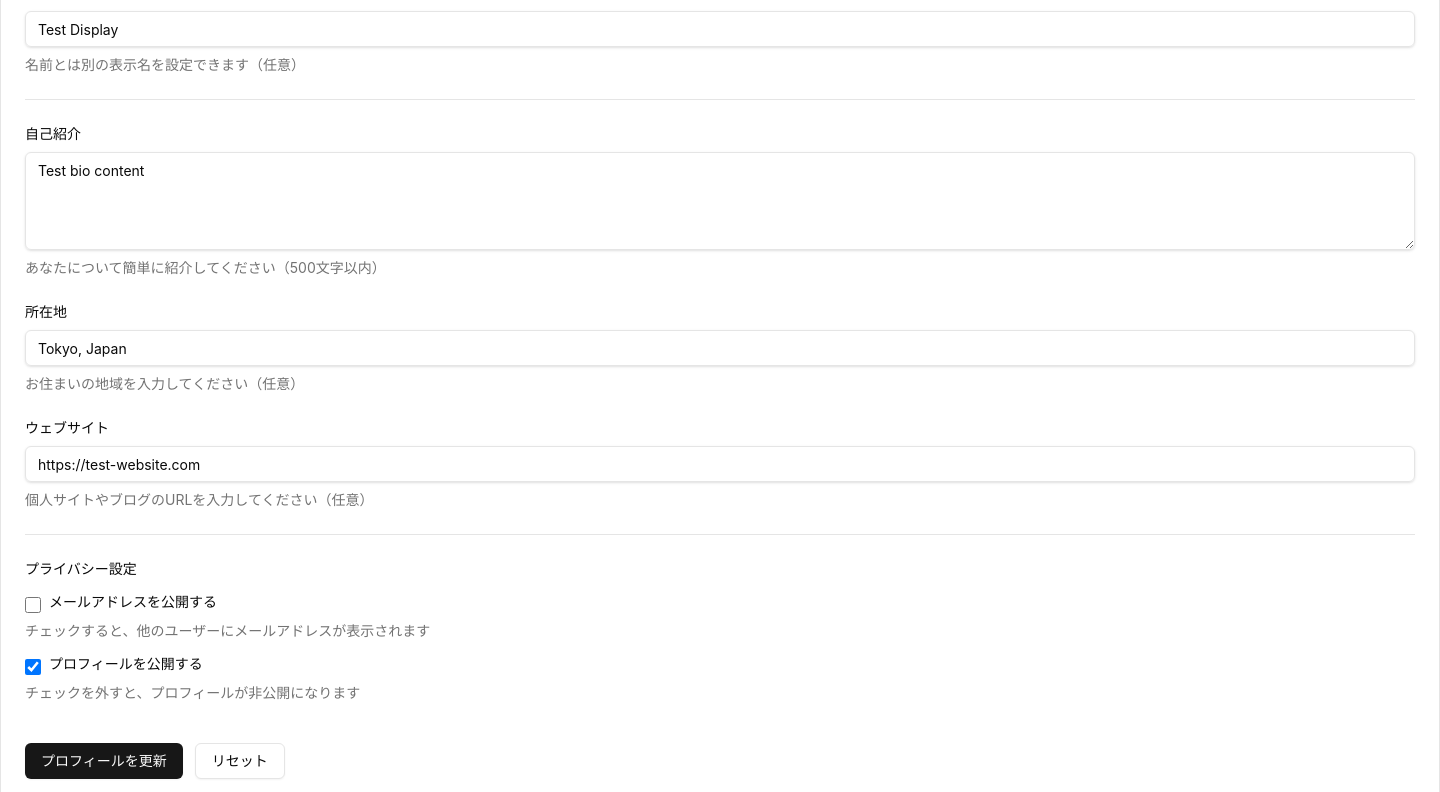
Scenario: ProfileEditForm › フォーム送信 › 送信エラー時にエラーメッセージを表示する
(page scrolled)
Click the button "プロフィールを更新".
click(104, 761)  # box [25, 743, 183, 779]
(page scrolled)
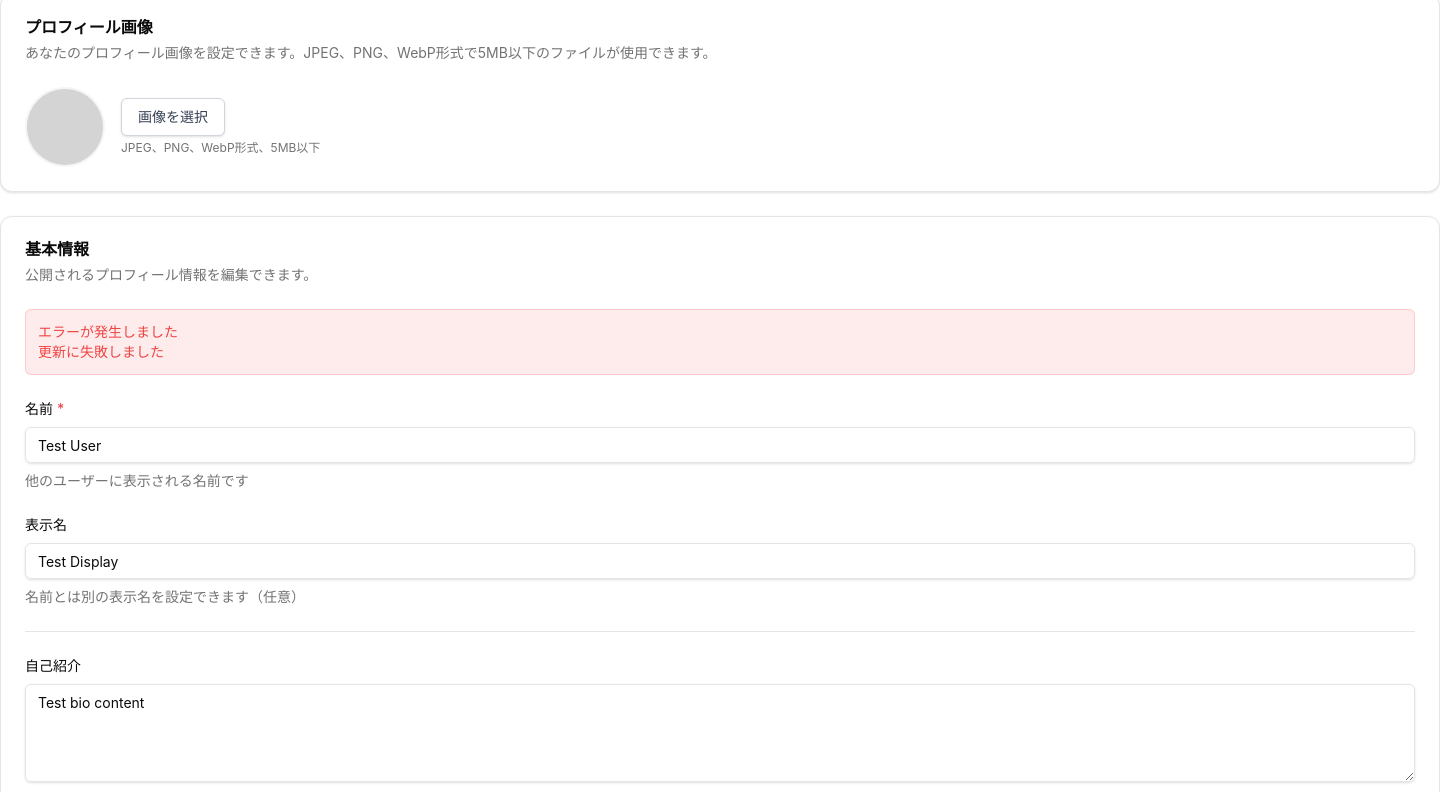
Result: the text "更新に失敗しました" is shown at [38, 343, 164, 360]
